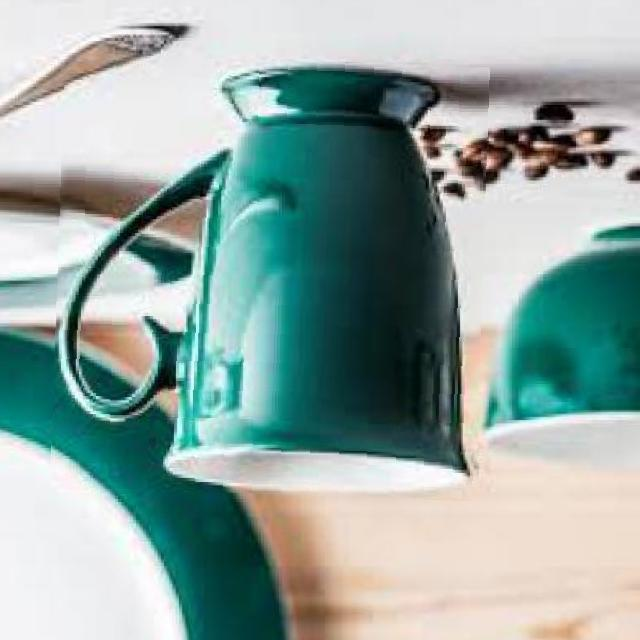cup: (50, 53, 490, 501)
